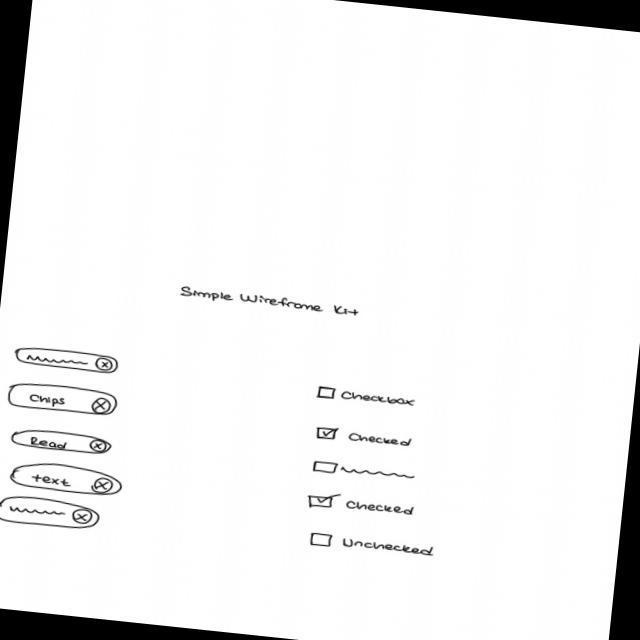checkbox: (309, 530, 437, 560), (306, 490, 418, 520), (312, 459, 419, 485), (314, 385, 418, 411), (314, 425, 416, 451)
label: (179, 284, 362, 319)
